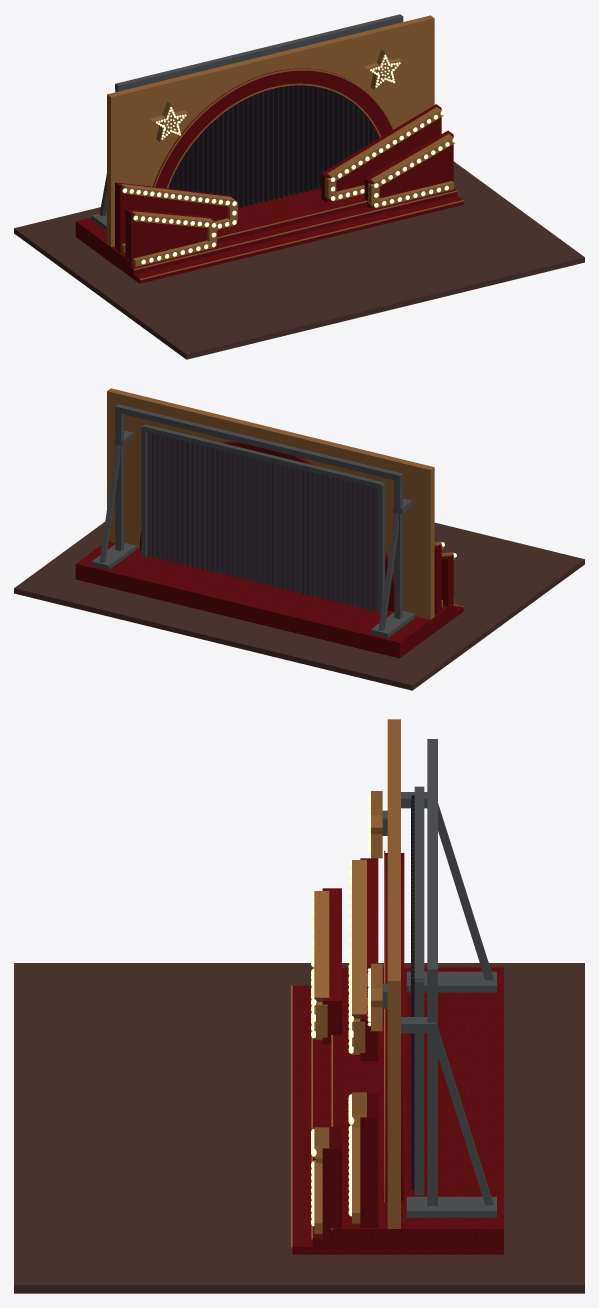
The model's file is red_gold_stage_textured.glb.
The picture shows the model from 3 angles, top to bottom: view 1: azimuth 30°, elevation 25°; view 2: azimuth 150°, elevation 25°; view 3: azimuth 270°, elevation 25°; orthographic projection. The views are drawn at different scales.
Visible parts, largest first — view 1: 前地面_有限边界, 褶皱黑帘_闭合薄实体, 左金棕侧景板, 右金棕侧景板, 台阶实体_03, 红色拱台实体_深度推定, 台阶实体_01, 台阶实体_02, 景板后横梁, 左外折线翼板, 右外折线翼板, 右内折线翼板 (+13 smaller); view 2: 褶皱黑帘_闭合薄实体, 前地面_有限边界, 台阶实体_03, 左金棕侧景板, 右金棕侧景板, 台阶实体_02, 景板后横梁, 帘顶部悬挂横梁, 后台支柱, 后台支柱.001, 台阶实体_01, 悬挂支柱_-4.75 (+8 smaller); view 3: 前地面_有限边界, 台阶实体_03, 台阶实体_01, 右金棕侧景板, 台阶实体_02, 景板后横梁, 后台支柱.001, 右内折线翼板, 左内灯排金边_0, 红色拱台实体_深度推定, 悬挂支柱_4.75, 帘顶部悬挂横梁 (+13 smaller).
Part boxes in pixels (box(x1,y1,x2,y2)): 前地面_有限边界: box(14, 161, 584, 359); 褶皱黑帘_闭合薄实体: box(168, 77, 377, 208); 左金棕侧景板: box(107, 55, 272, 246); 右金棕侧景板: box(269, 15, 434, 128); 台阶实体_03: box(75, 187, 367, 274); 红色拱台实体_深度推定: box(153, 68, 392, 188); 台阶实体_01: box(84, 195, 463, 283); 台阶实体_02: box(75, 188, 457, 274); 景板后横梁: box(115, 14, 403, 91); 左外折线翼板: box(125, 209, 214, 266); 右外折线翼板: box(364, 130, 453, 208); 右内折线翼板: box(321, 104, 441, 202); 褶皱黑帘_闭合薄实体: box(147, 432, 377, 611); 前地面_有限边界: box(14, 522, 584, 690); 台阶实体_03: box(75, 541, 451, 657); 左金棕侧景板: box(269, 428, 434, 619); 右金棕侧景板: box(107, 388, 272, 548); 台阶实体_02: box(75, 569, 457, 658); 景板后横梁: box(115, 404, 403, 481); 帘顶部悬挂横梁: box(143, 424, 383, 488); 后台支柱: box(394, 476, 402, 619); 后台支柱.001: box(115, 408, 123, 550); 台阶实体_01: box(161, 598, 463, 657); 悬挂支柱_-4.75: box(378, 483, 385, 614); 前地面_有限边界: box(14, 963, 584, 1293); 台阶实体_03: box(332, 967, 503, 1254); 台阶实体_01: box(292, 985, 503, 1254); 右金棕侧景板: box(387, 850, 400, 1228); 台阶实体_02: box(312, 1038, 503, 1254); 景板后横梁: box(427, 739, 437, 978); 后台支柱.001: box(427, 978, 437, 1205); 右内折线翼板: box(360, 1093, 378, 1227); 左内灯排金边_0: box(352, 860, 366, 1022); 红色拱台实体_深度推定: box(385, 853, 404, 1201); 悬挂支柱_4.75: box(414, 980, 424, 1195); 帘顶部悬挂横梁: box(414, 786, 424, 980).
Bounding box in the file's own units: 16 × 6.55 × 12.
6 materials, 1 textured.
